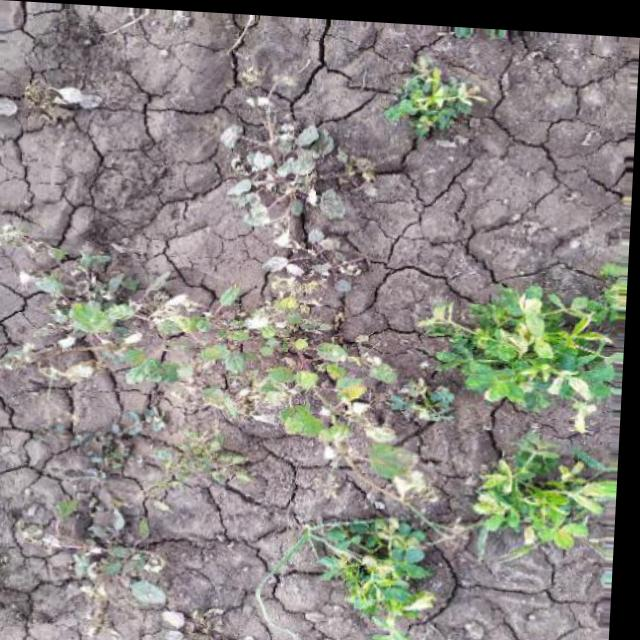weed: (29, 226, 444, 487), (447, 272, 630, 415), (292, 494, 451, 640), (458, 426, 624, 557)
